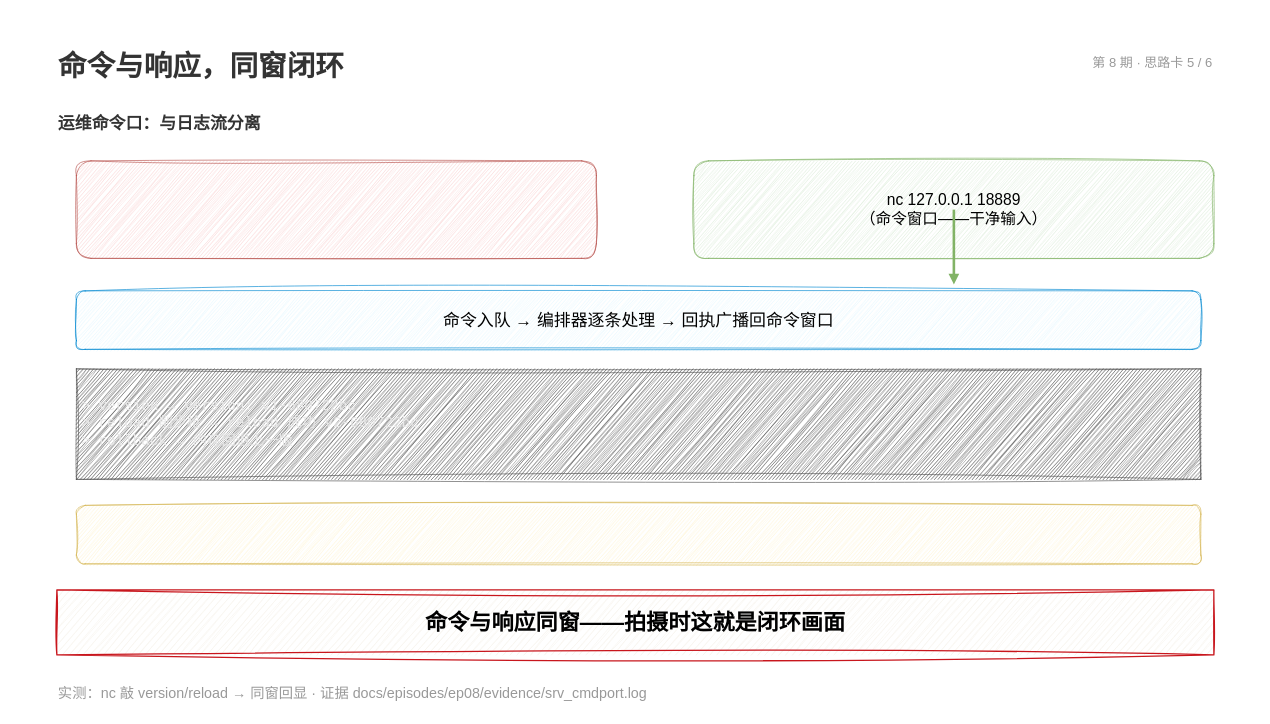
This 1270x724 diagram has some shape labels left out. The shapes that lost their labels are listed below. From the top down, each one's centre as x and y in pixels, then its label:
[336,209]: CLion / 服务器日志窗口 （心跳刷屏——观感嘈杂）
[638,534]: 这些能力通常是运营平台做的——这里做进了服务器本体
